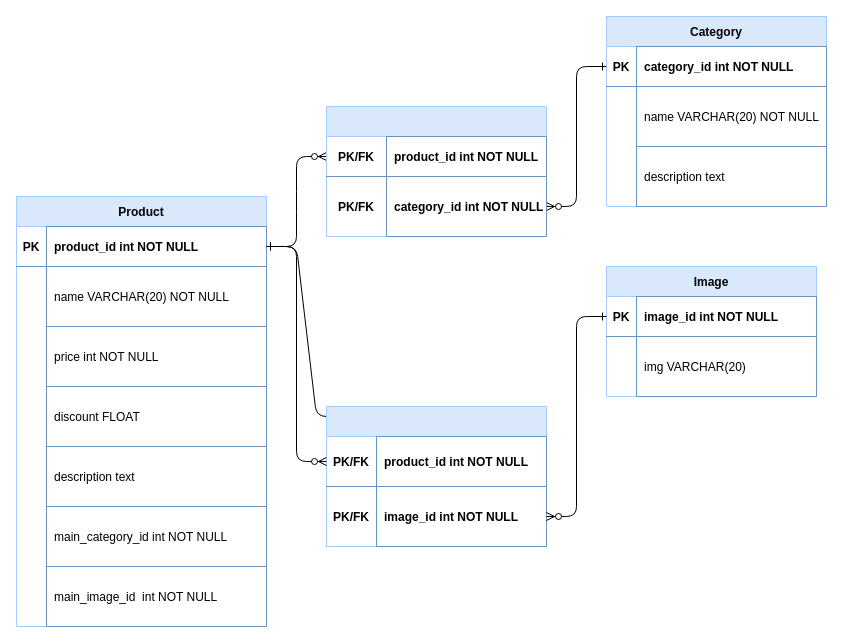
The diagram is 843 pixels wide and 643 high, and some of its shapes have lost their labels. Here are the shapes that lost their labels. From the top down, the box of each, then its label:
(326, 106, 546, 236): Product_category
(326, 406, 546, 546): Product_image
